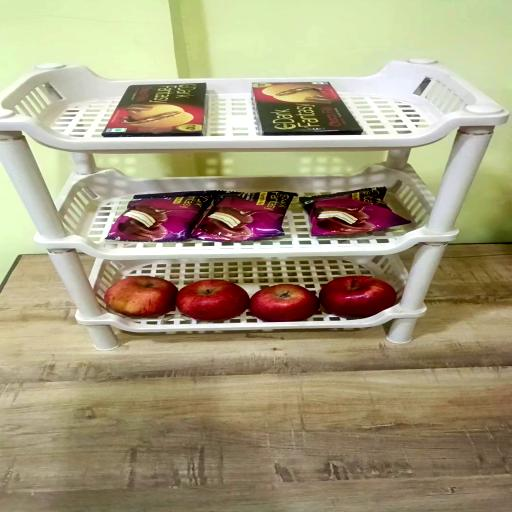Apple: (320, 277, 396, 318), (178, 280, 252, 322), (103, 277, 177, 318), (250, 285, 321, 322)
Choco Fills: (253, 80, 363, 134), (100, 82, 204, 136)
Choco Pie: (106, 190, 220, 243), (300, 190, 410, 238), (193, 194, 297, 244)
